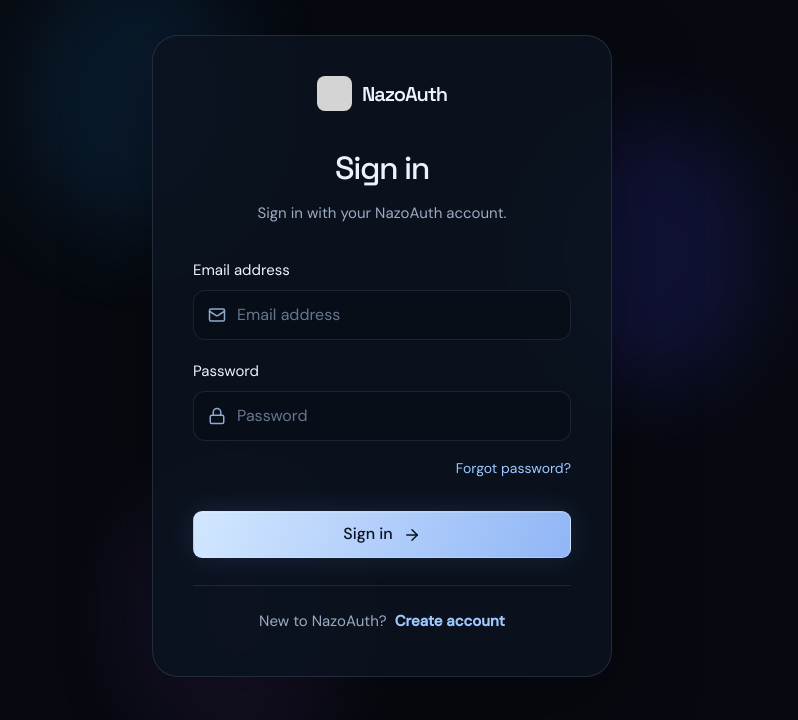
Test: account actions › shows a server rejection without refreshing the session or navigating
Type "user@example.test" into the field with placeholder "Email address" at [382, 315], box [193,290,571,340]
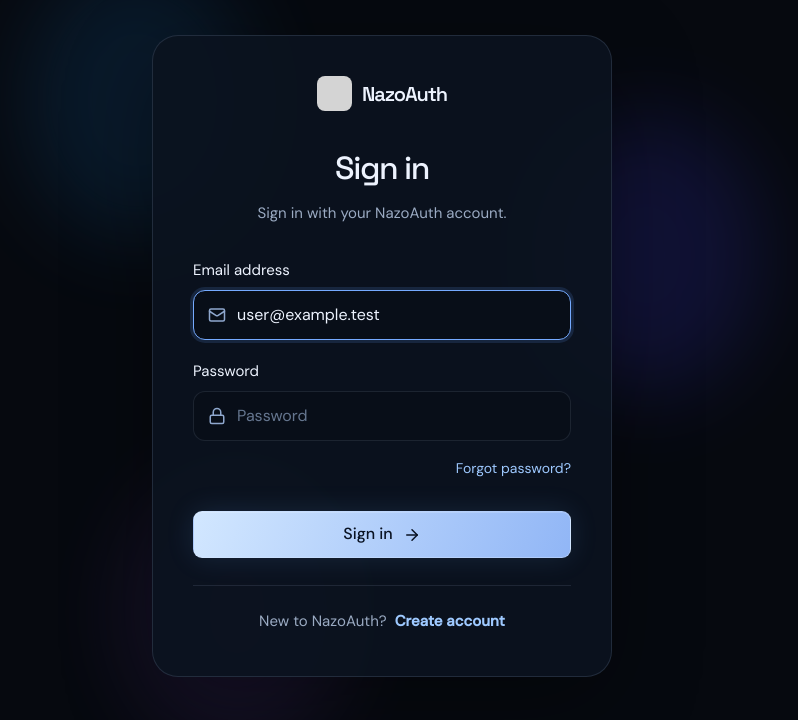
Type "password" into the password field with placeholder "Password" at [382, 416], box [193,391,571,441]
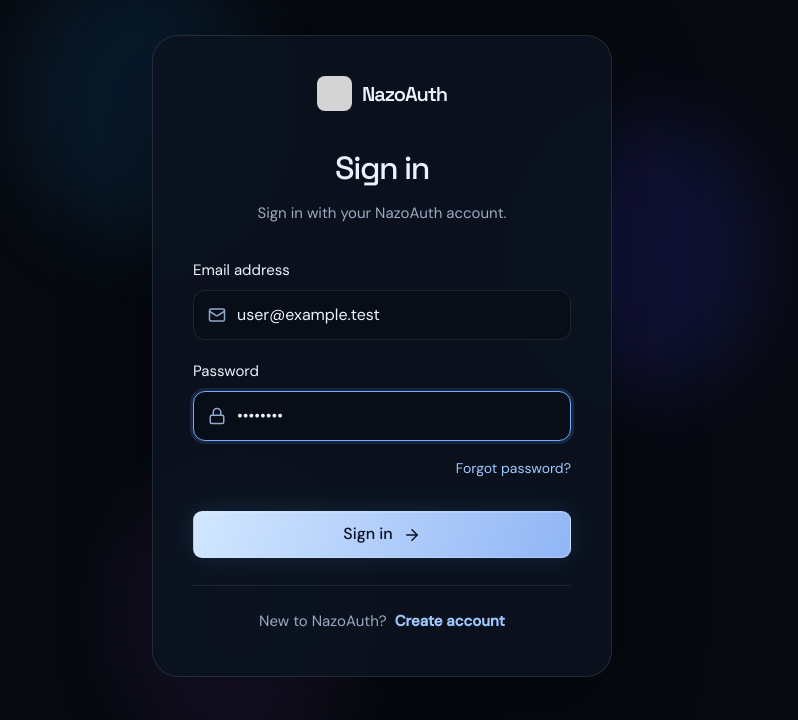
Click the button "Sign in" at [382, 534], box [193,511,571,558]
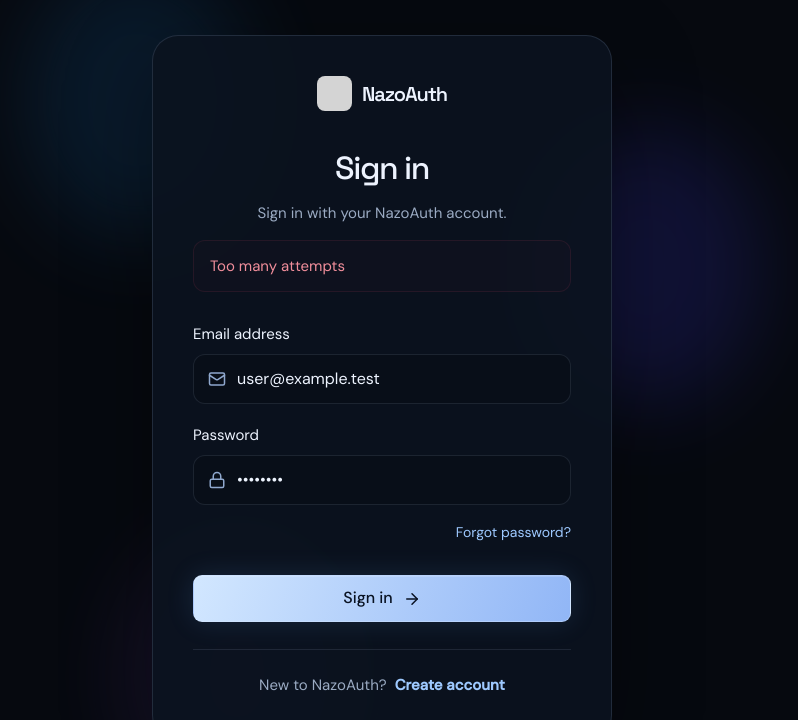
Expected: the button "Sign in" is enabled, [193,575,571,622]
Expected: the text "Too many attempts" is shown, [193,240,571,292]
